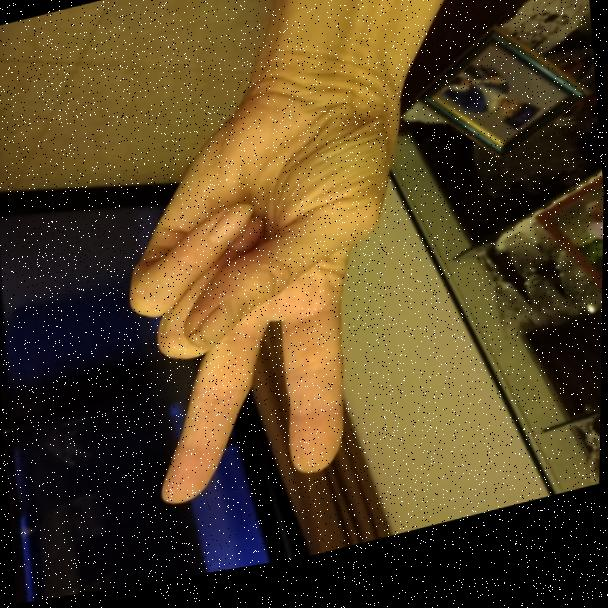two: (121, 90, 413, 527)
